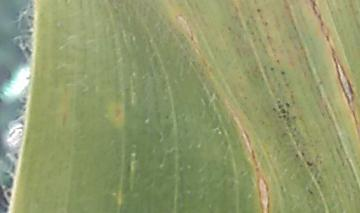tarspot: (272, 98, 293, 120), (188, 28, 194, 42), (305, 160, 315, 168), (262, 20, 271, 28), (300, 149, 307, 159), (255, 6, 263, 14), (305, 187, 313, 194), (162, 113, 170, 120), (268, 66, 276, 72), (274, 58, 280, 66), (293, 152, 299, 160), (226, 24, 232, 32), (284, 100, 289, 109), (279, 69, 286, 75), (315, 178, 321, 185)
